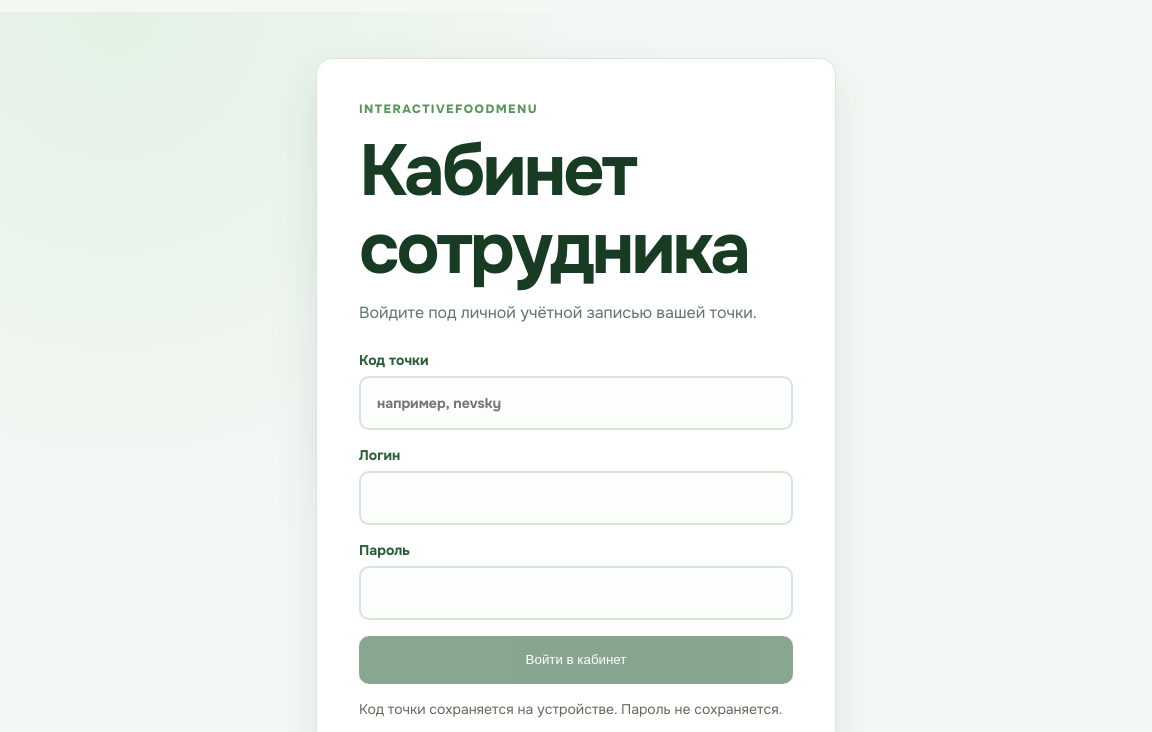
Scenario: staff application flow › filters availability and lets staff set, add and remove stock
Type "wintercafe123" into the field labelled "Код точки". click: (576, 403)
box: [359,376,793,430]
Type "worker" into the field labelled "Логин". click: (576, 498)
box: [359,471,793,525]
Type "personal-password" into the password field labelled "Пароль". click: (576, 593)
box: [359,566,793,620]
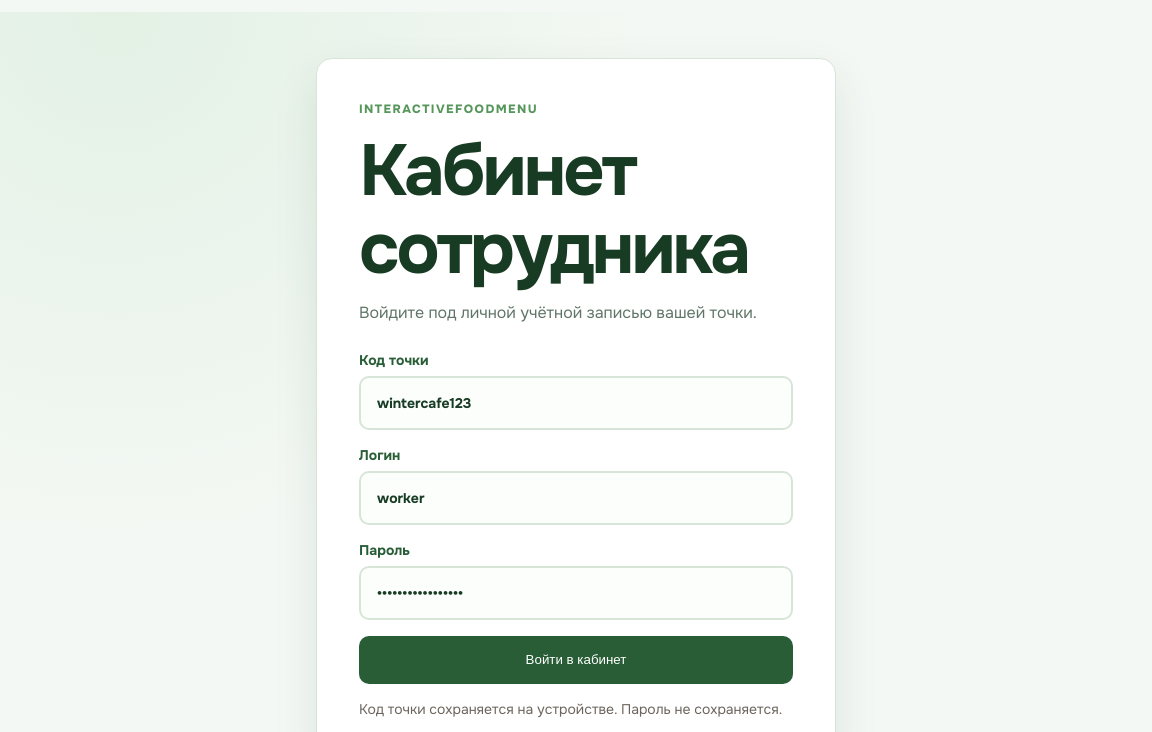
Click the button "Войти в кабинет". click: click(576, 660)
box: [359,636,793,684]
(page scrolled)
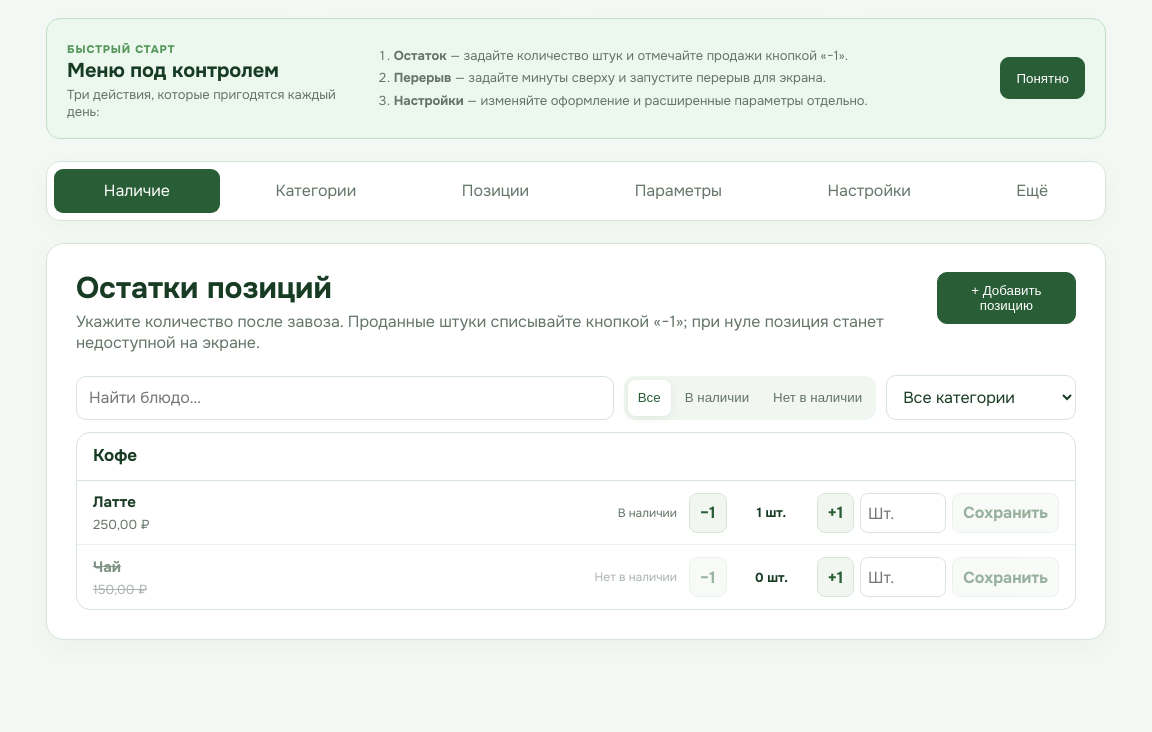
Type "чай" into the search field named "Поиск по позициям". click: (345, 398)
box: [76,376,614,420]
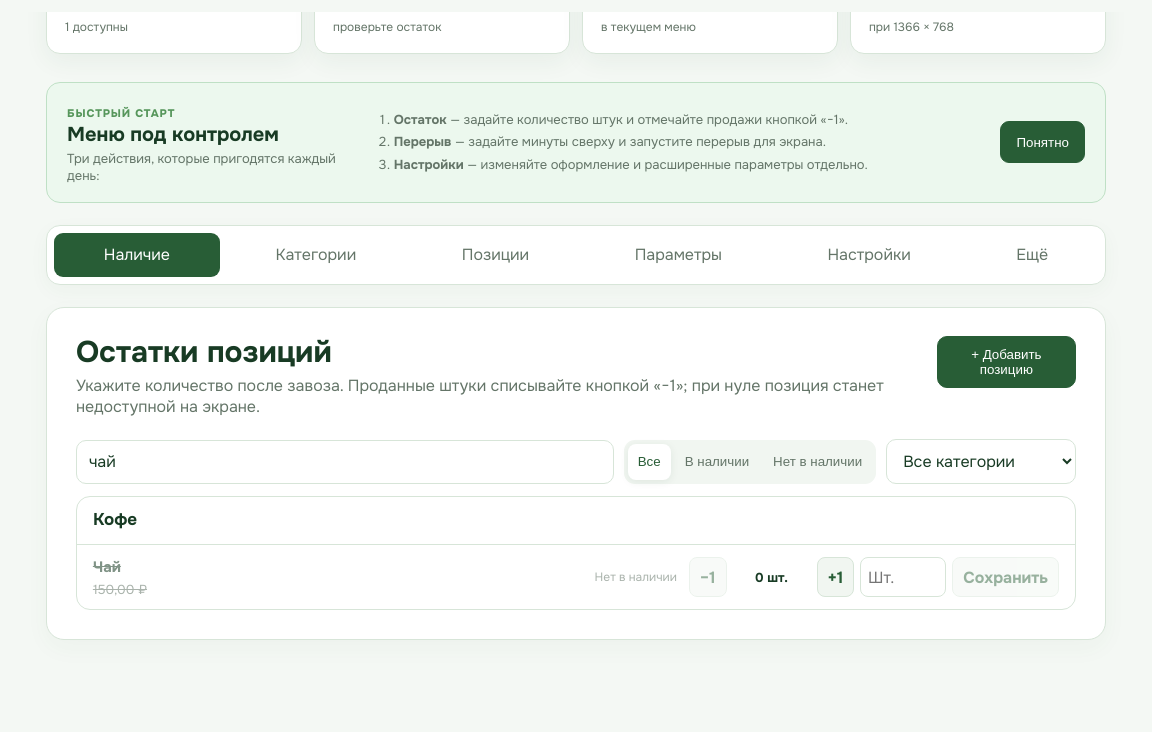
Expected: the text "Чай" is shown, [93,557,121,577]
Expected: the text "0 шт." is shown, [755,569,788,586]
Expected: the text "Латте" is gone
Type "2" into the number field named "Задать остаток Чай". click: (903, 577)
box: [860,557,946,597]
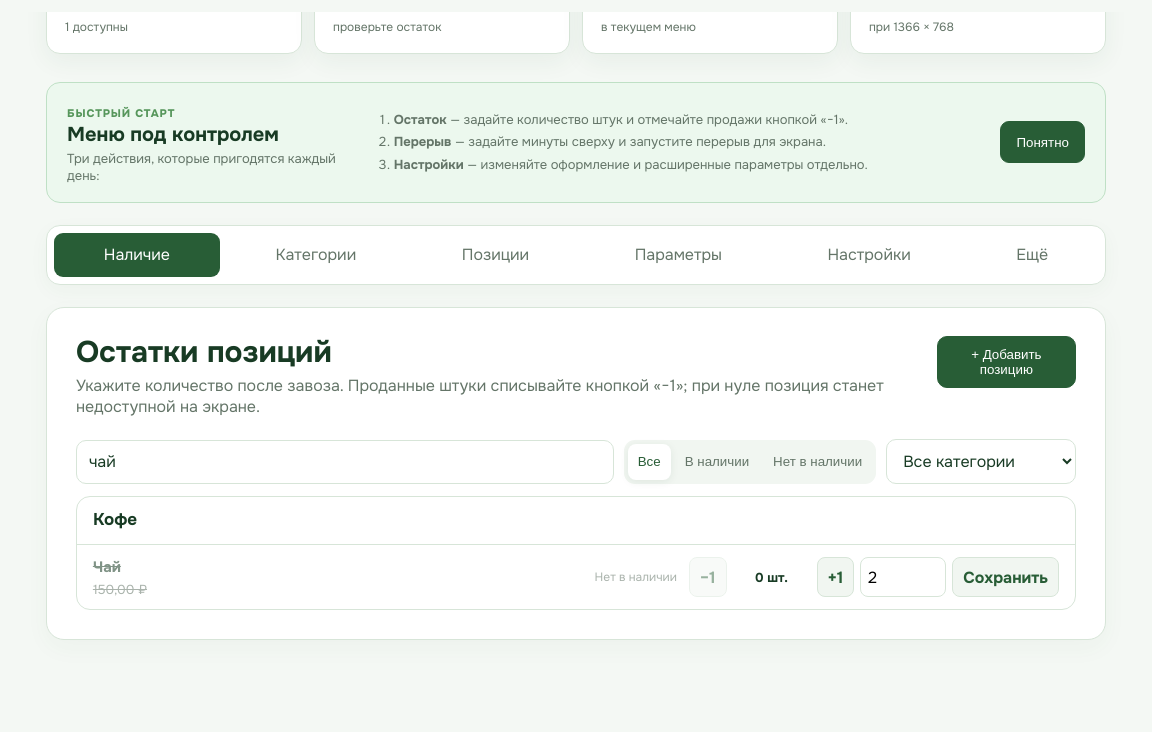
Click the button "Сохранить". click: click(1006, 577)
box: [952,557,1059,597]
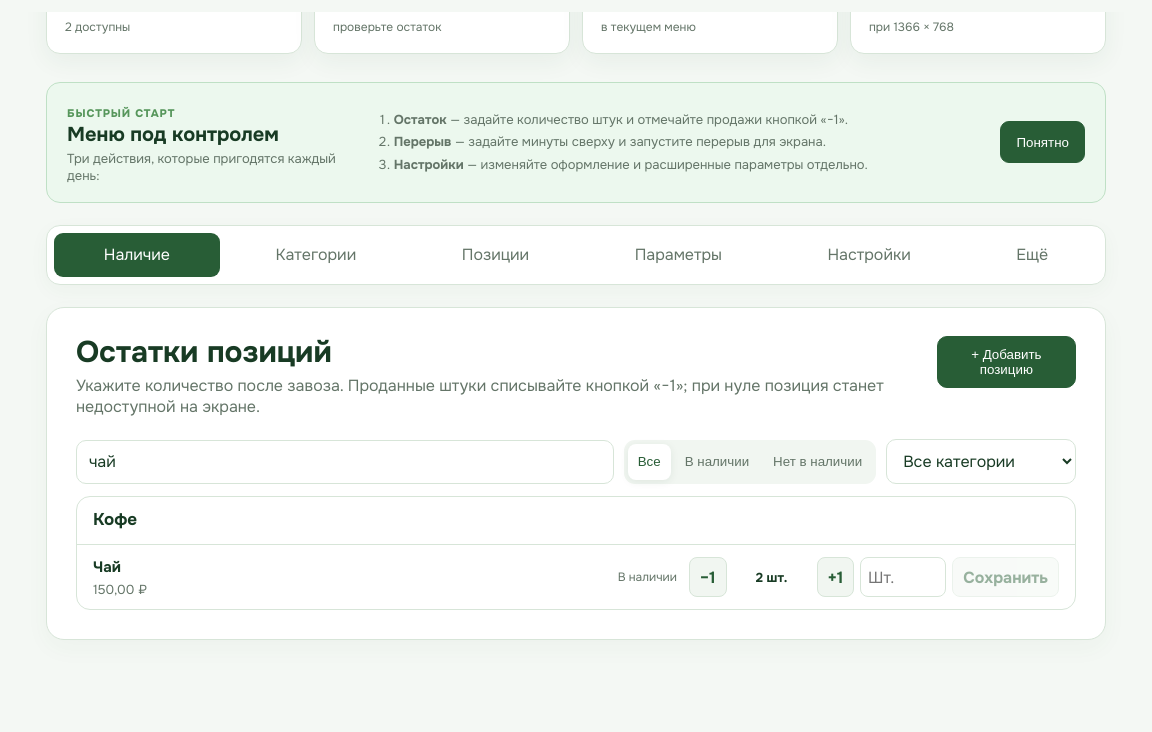
Expected: the text "2 шт." is shown, [756,569,787,586]
Click the button named "Списать одну штуку Чай". click: click(708, 577)
box: [689,557,726,597]
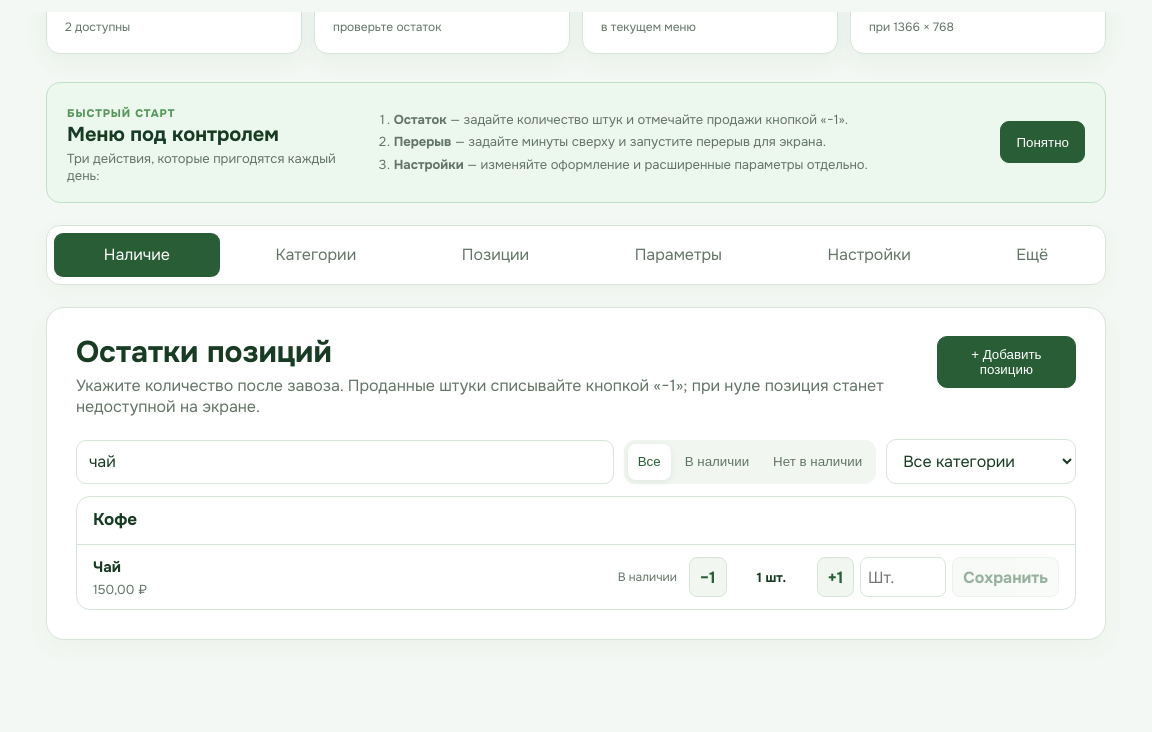
Expected: the text "1 шт." is shown, [757,569,786,586]
